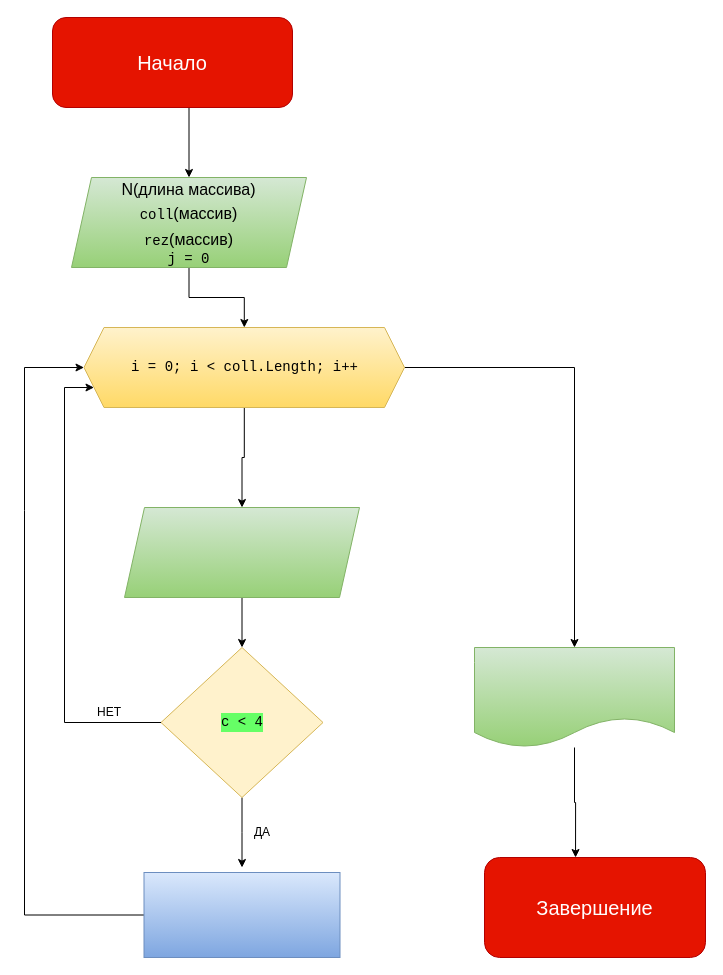
Image size: 723x975. Some labels were removed from this diagram. The box of each missing label's shape, as (x1, y1, x2, y2) in pixels:
c = coll[i].Length: (124, 506, 360, 598)
rez[j] = coll [i], j++: (143, 872, 340, 958)
Вывод rez: (474, 646, 674, 748)
